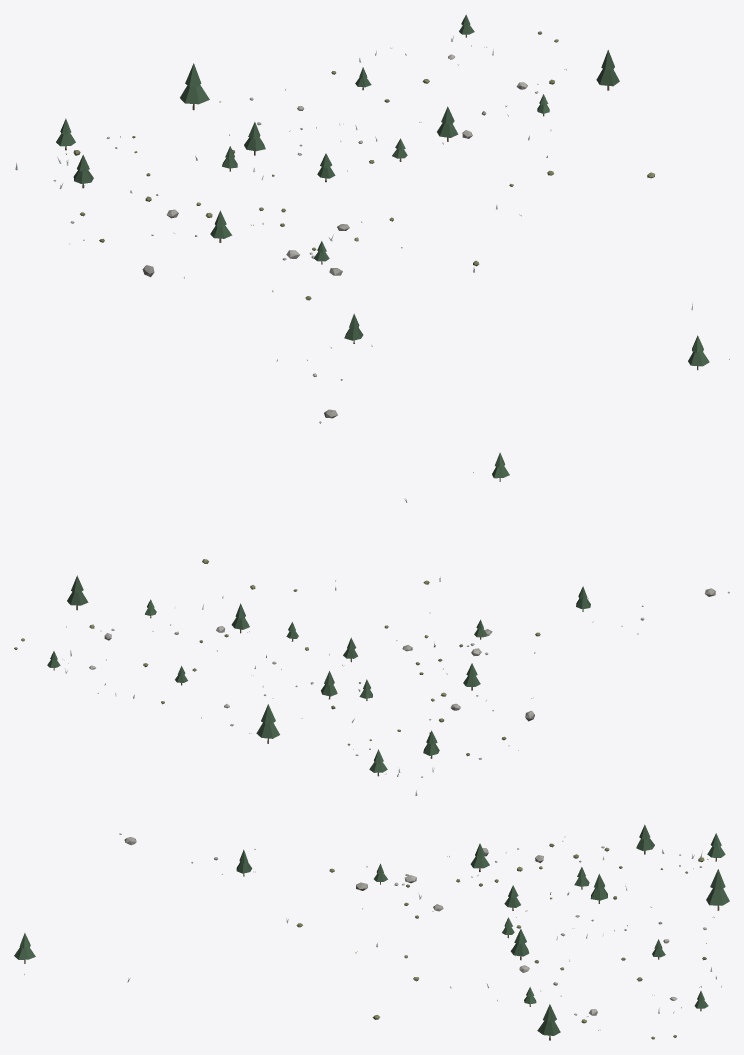
File: coast_land_scatter_c09_17_lod1.glb
The picture shows the model from 3 angles, top to bottom: view 1: azimuth 30°, elevation 25°; view 2: azimuth 150°, elevation 25°; view 3: azimuth 270°, elevation 25°; orthographic projection. The views are drawn at different scales.
Visible parts, largest first — view 1: coast_land_scatter_c09_17_lod1; view 2: coast_land_scatter_c09_17_lod1; view 3: coast_land_scatter_c09_17_lod1.
Boxes of the visible parts, x1=… form: coast_land_scatter_c09_17_lod1: x1=14, y1=14, x2=729, y2=423; coast_land_scatter_c09_17_lod1: x1=14, y1=452, x2=729, y2=795; coast_land_scatter_c09_17_lod1: x1=14, y1=824, x2=729, y2=1040.
Size of the model in its own units: 203 by 27.92 by 262.
